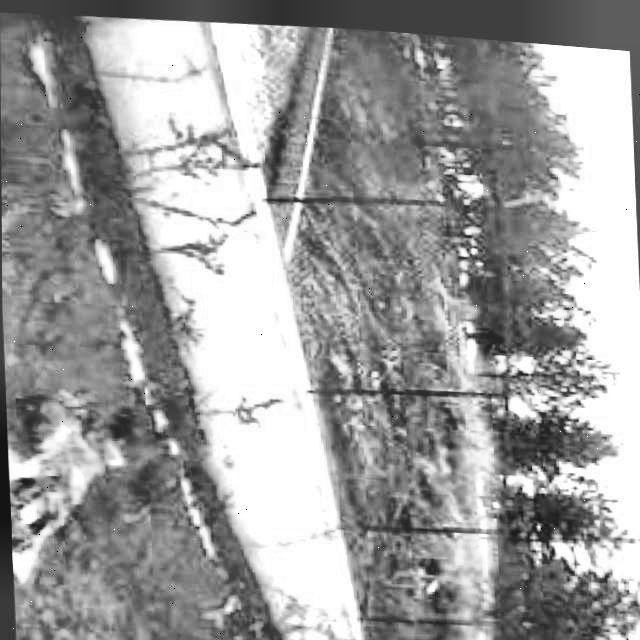Fire: (4, 378, 119, 567)
